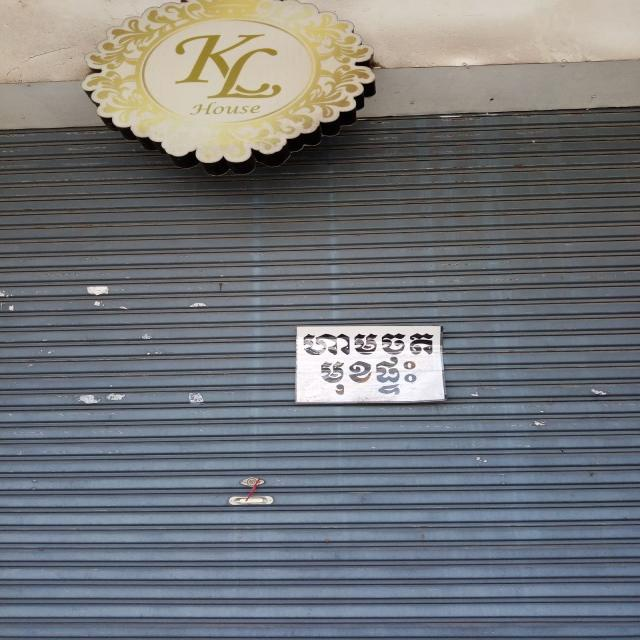Yolov11_80vkh: (270, 357, 457, 404), (292, 326, 439, 360)
